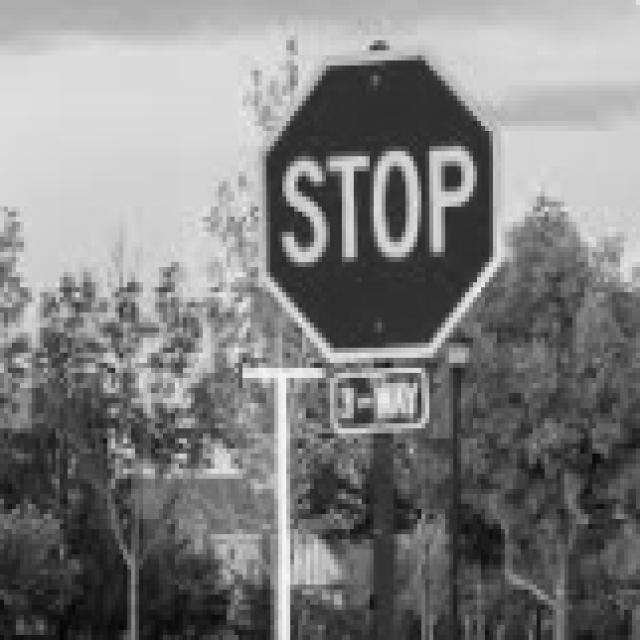Stop-signs: (264, 50, 502, 361)
